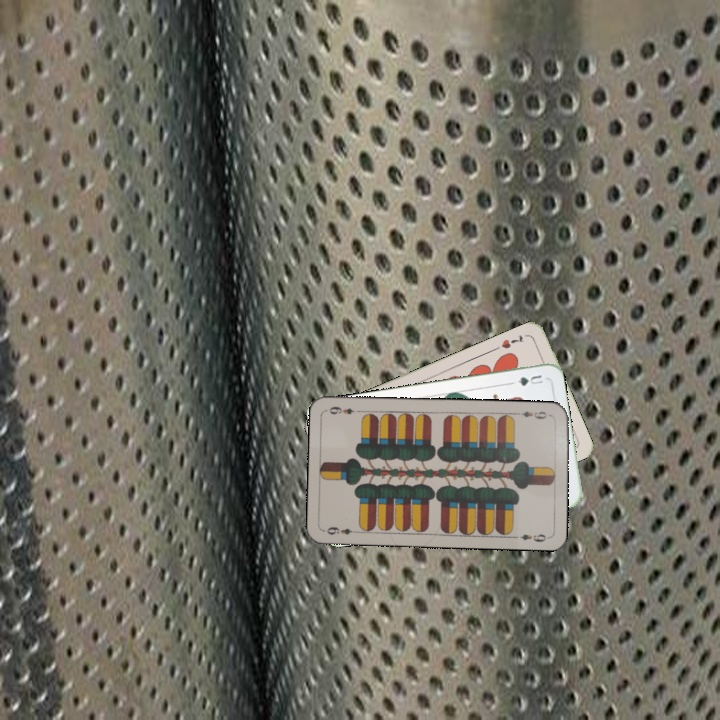E9: (513, 407, 554, 422), (323, 523, 362, 537)
GU: (513, 371, 546, 388)
H7: (497, 331, 526, 351)
